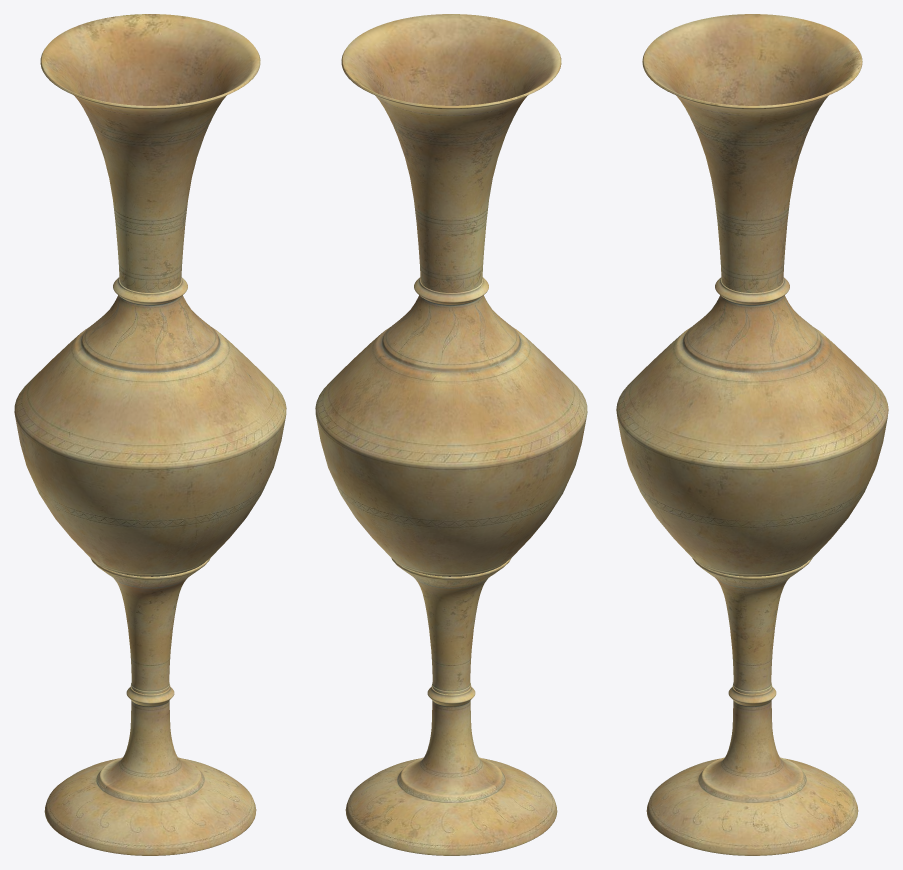
Rendered from Vase.dae.
3 views of the same model, side by side, from view 1: azimuth 30°, elevation 25°; view 2: azimuth 150°, elevation 25°; view 3: azimuth 270°, elevation 25° (orthographic).
Visible parts, largest first — view 1: brass_vase_01; view 2: brass_vase_01; view 3: brass_vase_01.
Part boxes in pixels (x1,y1,x2,y2): brass_vase_01: [14, 14, 286, 855]; brass_vase_01: [315, 14, 587, 855]; brass_vase_01: [616, 14, 888, 855].
Bounding box in the file's own units: 0.2273 × 0.2273 × 0.6925.
